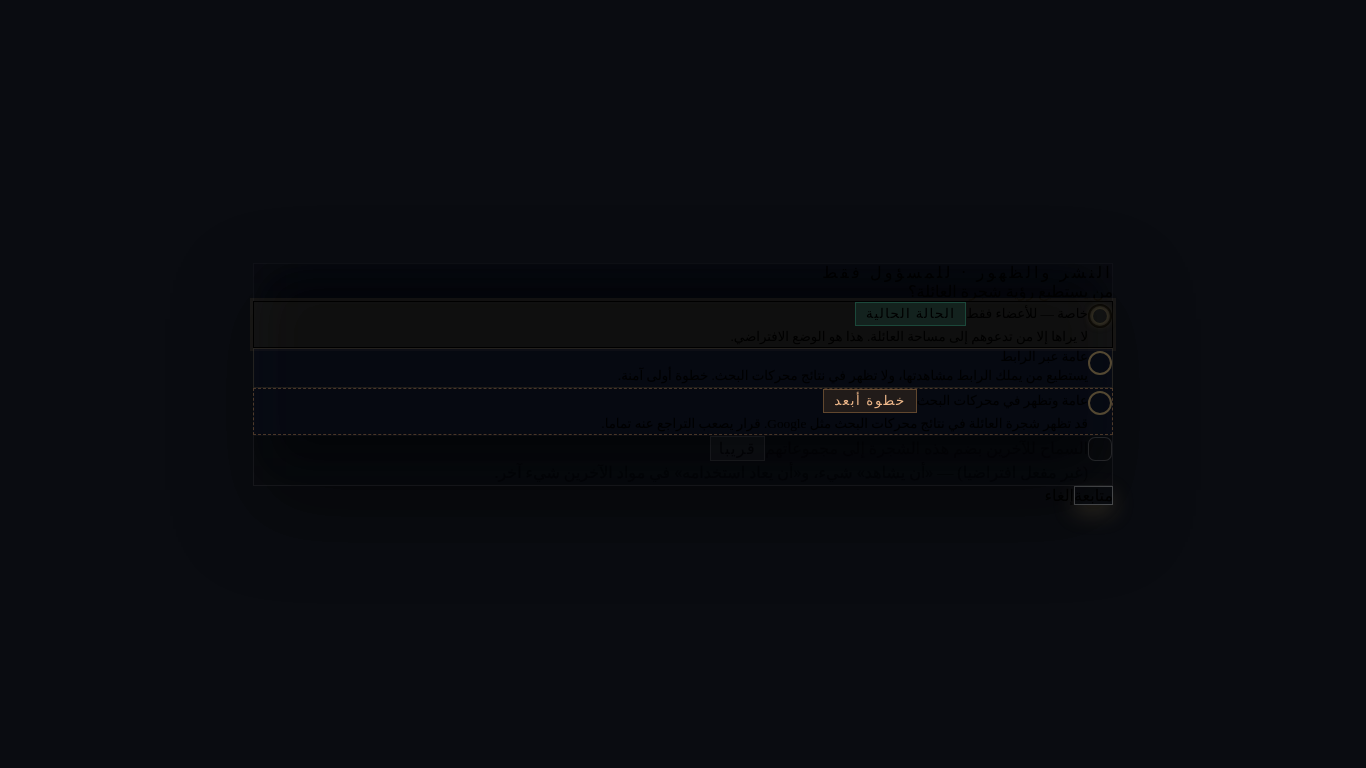
it: PublishFlow real-action wiring › shows the opt-in as already enabled when the tree has it on
Click the text "عامة وتظهر في محركات البحث خطوة أبعد".
click(956, 401)  # box [823,389,1088,413]
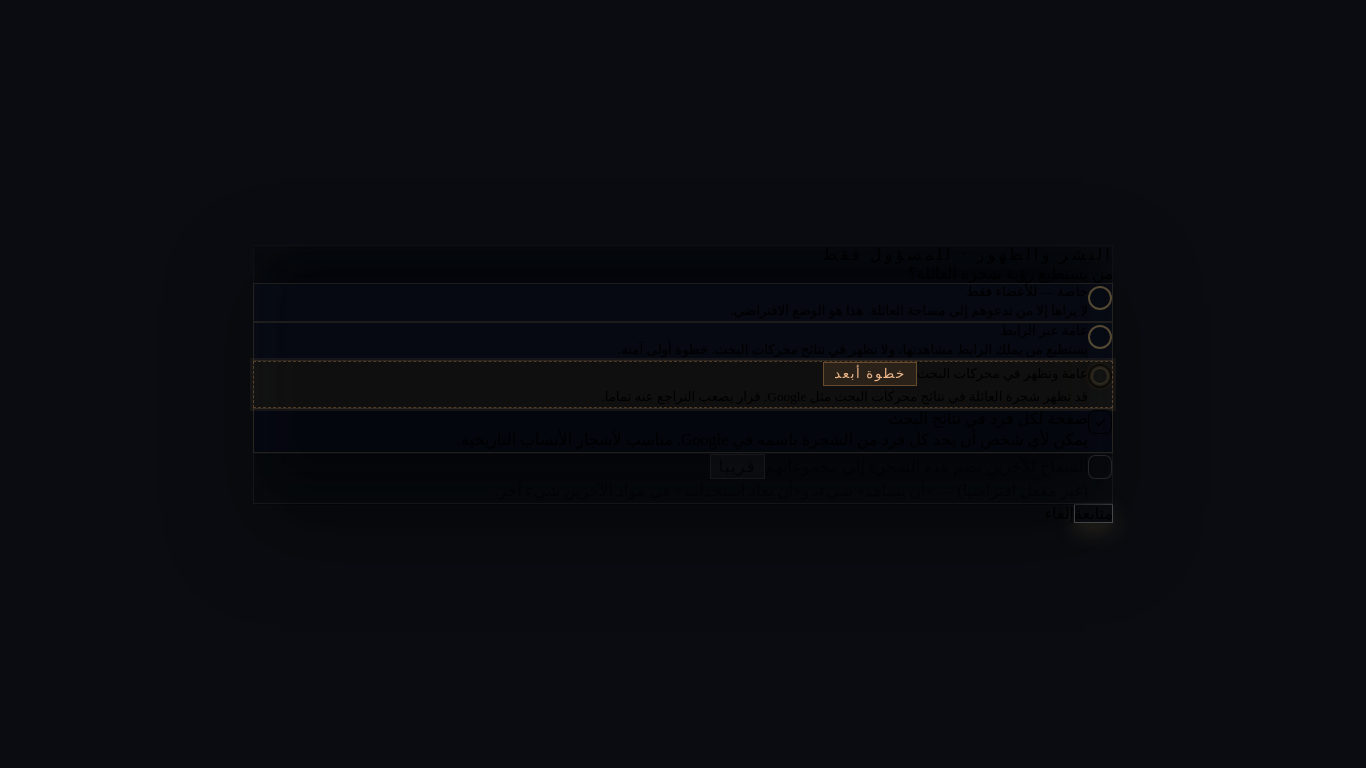
Result: the checkbox labelled "صفحة لكل فرد في نتائج البحث" is checked at [253,408,1113,454]
